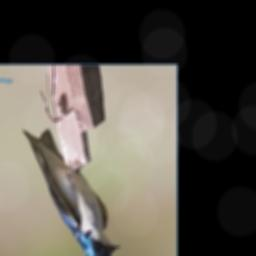Swallow: (20, 127, 121, 256)
